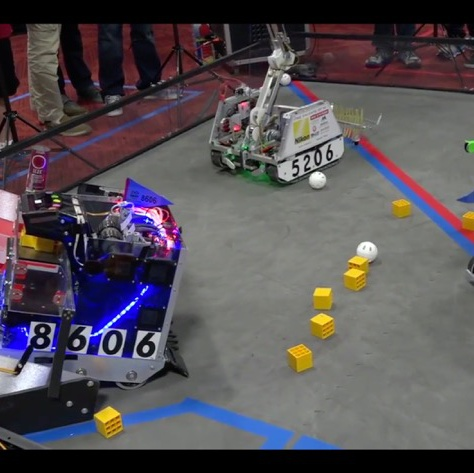robot: (1, 178, 193, 394), (205, 34, 387, 187)
